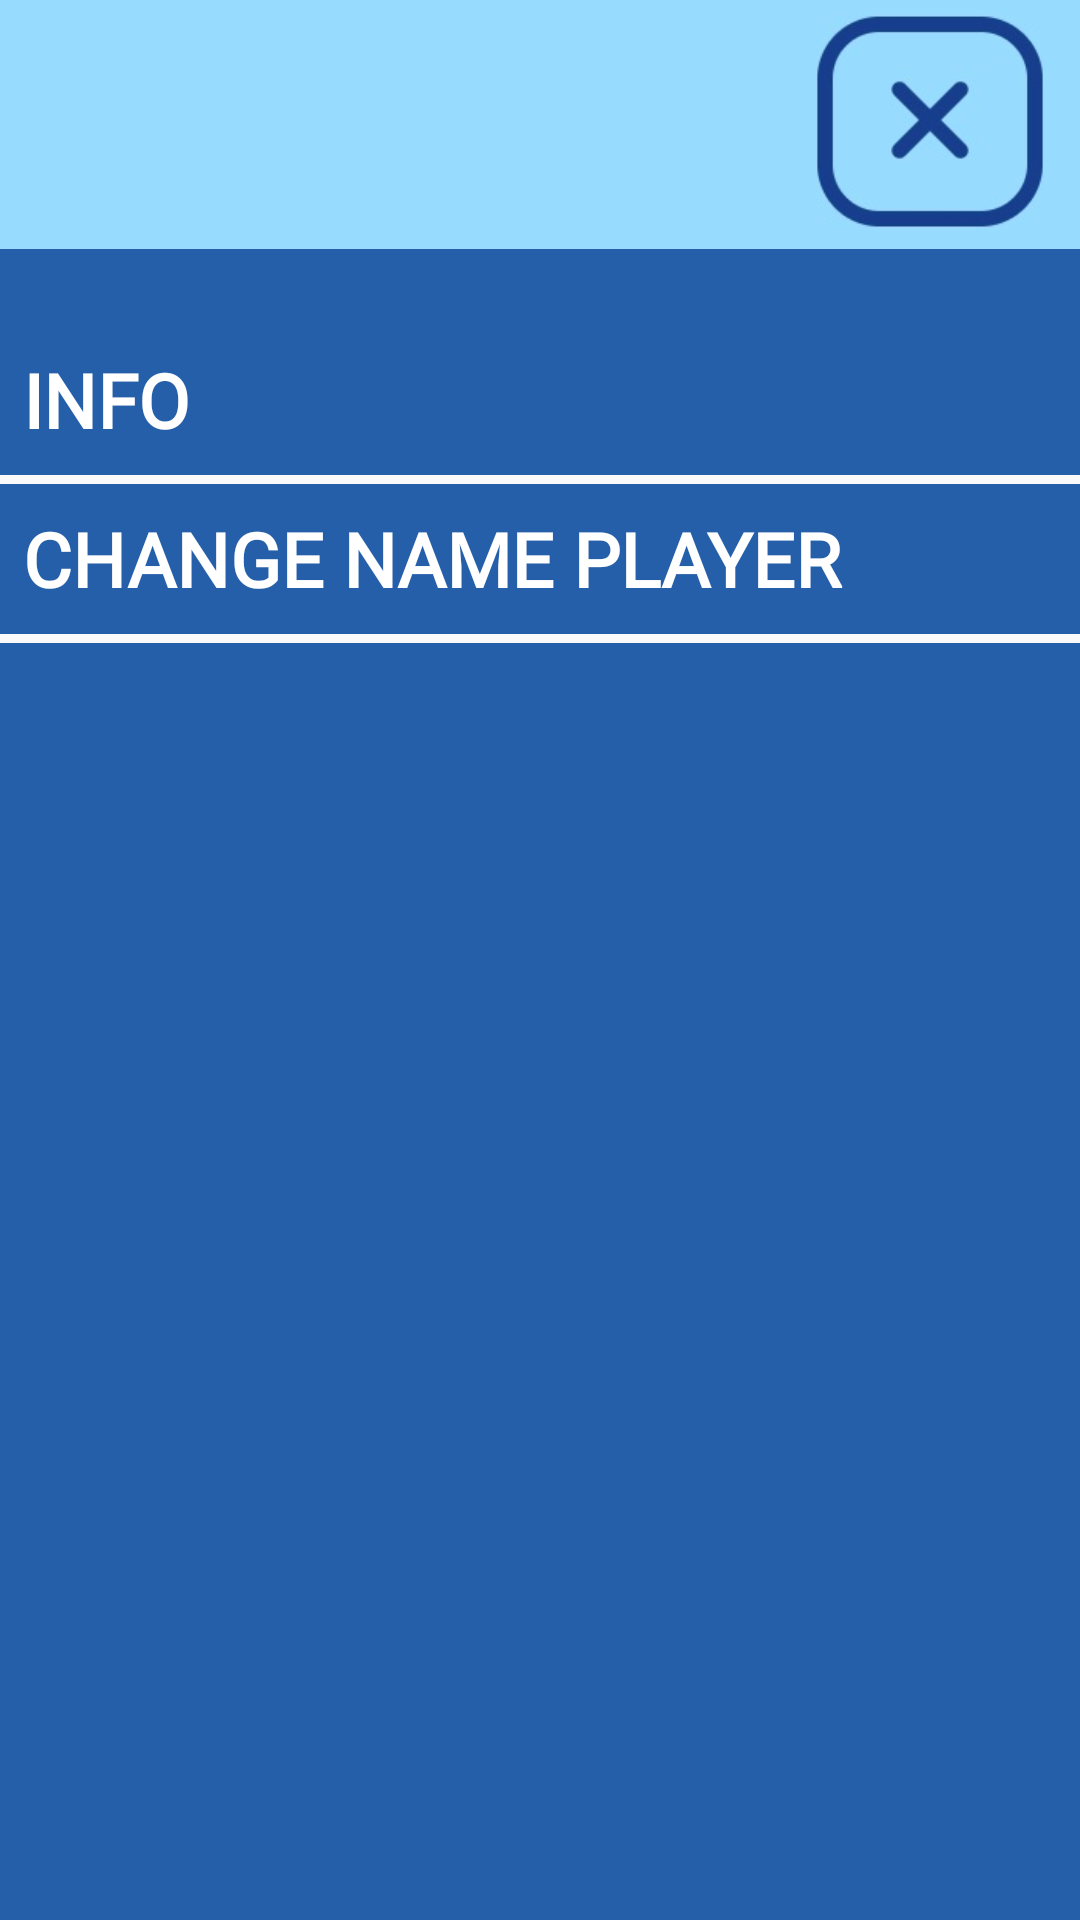

Screen size 1080px x 1920px. Icon name, then its center in pixels as [x,y]:
btnclose: [930,121]
